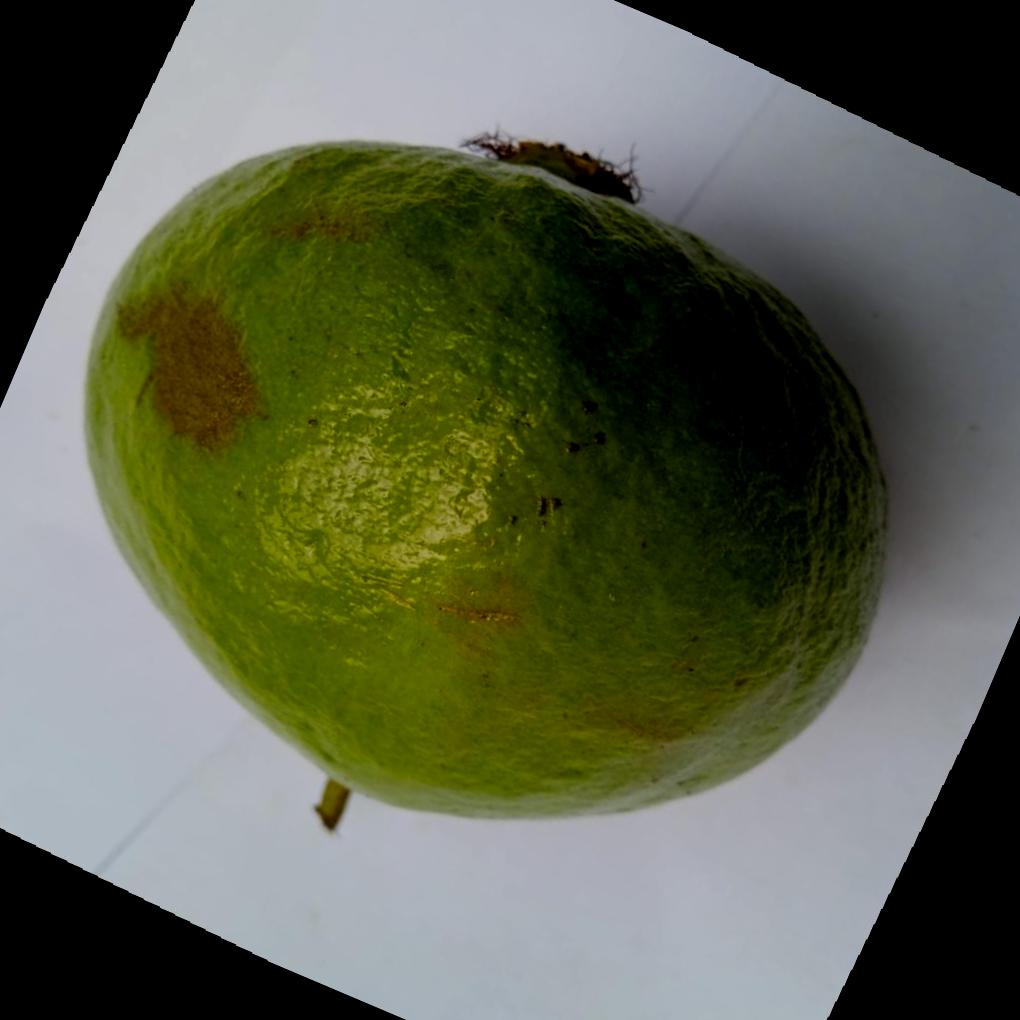FreshGuava: (82, 140, 888, 825)
